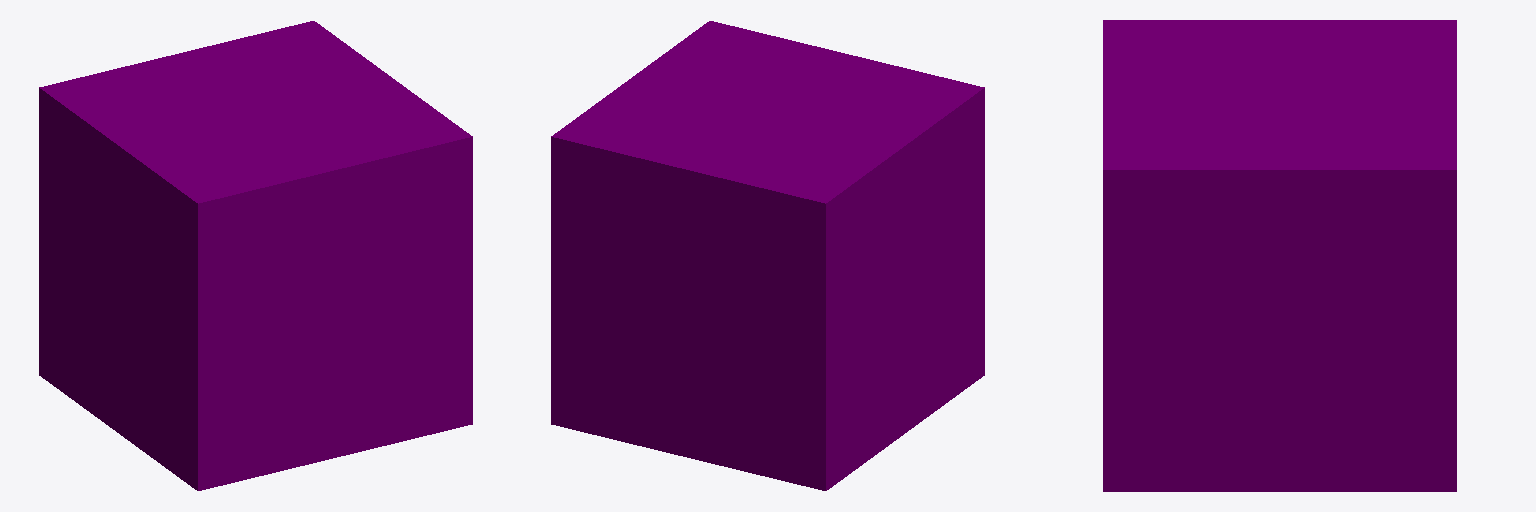
robot.urdf — block_blue:
<?xml version="1.0"?>
<!-- color: purple -->
<robot name="block_blue">
  <link name="base_link">
    <contact>
      <lateral_friction value="0.7"/>
      <spinning_friction value=".001"/>
    </contact>
    <inertial>
      <origin rpy="0 0 0" xyz="0 0 0"/>
      <mass value="1"/>
      <inertia ixx="1" ixy="0" ixz="0" iyy="1" iyz="0" izz="1"/>
    </inertial>
    <visual>
      <origin rpy="0 0 0" xyz="0.0 0.0 0.0"/>
      <geometry>
        <box size="0.05 0.05 0.05"/>
      </geometry>
      <material name="purple">
        <color rgba="0.5 0.0 0.5 1.0"/>
      </material>
    </visual>
    <collision>
      <origin rpy="0 0 0" xyz="0.0 0.0 0.0"/>
      <geometry>
        <box size="0.05 0.05 0.05"/>
      </geometry>
    </collision>
  </link>
</robot>

--- Render facts (derived) ---
Views: 3 orthographic renders of the robot side by side, from view 1: azimuth 30°, elevation 25°; view 2: azimuth 150°, elevation 25°; view 3: azimuth 270°, elevation 25°.
Robot: block_blue — 1 links, 0 joints (none); root link base_link; default pose: all joints at 0.
Links seen in each view (by area): view 1: base_link; view 2: base_link; view 3: base_link.
Boxes of the visible links, x1,y1,x2,y2 form: base_link: [39, 21, 472, 490]; base_link: [551, 21, 984, 490]; base_link: [1103, 20, 1456, 491].
Size in the robot's own frame: 0.05 by 0.05 by 0.05 metres.
Geometry: primitives only (box / cylinder / sphere), no mesh files.
